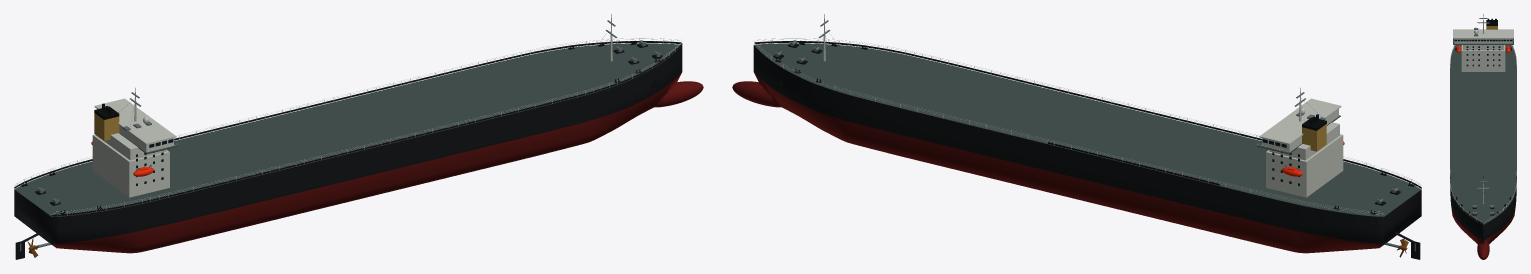
File: ship-blocks.glb
3 renders of one model, left to right at view 1: azimuth 30°, elevation 25°; view 2: azimuth 150°, elevation 25°; view 3: azimuth 270°, elevation 25°, orthographic. The views are drawn at different scales.
Visible parts, largest first — view 1: Ship (×17); view 2: Ship (×17); view 3: Ship (×14).
Boxes of the visible parts, x1,y1,x2,y2 form: Ship (×17): (14, 18, 703, 259); Ship (×17): (732, 18, 1421, 259); Ship (×14): (1450, 14, 1516, 259).
Bounding box in the file's own units: 160 × 33.12 × 22.9.
